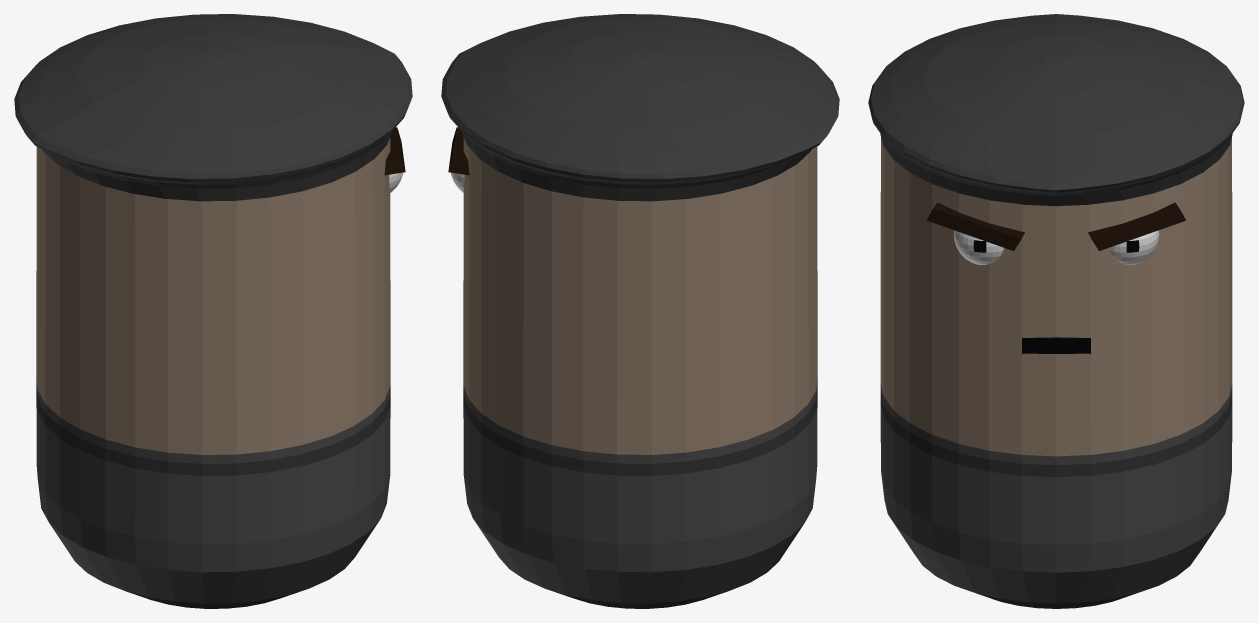
The model's file is Player.fbx.
3 views of the same model, side by side, from view 1: azimuth 30°, elevation 25°; view 2: azimuth 150°, elevation 25°; view 3: azimuth 270°, elevation 25° (orthographic).
Visible parts, largest first — view 1: Player; view 2: Player; view 3: Player.
Part boxes in pixels (<box>): Player: <box>14,14,412,608</box>; Player: <box>441,14,839,608</box>; Player: <box>868,14,1244,608</box>.
Size of the model in its own units: 236 by 328 by 214.
